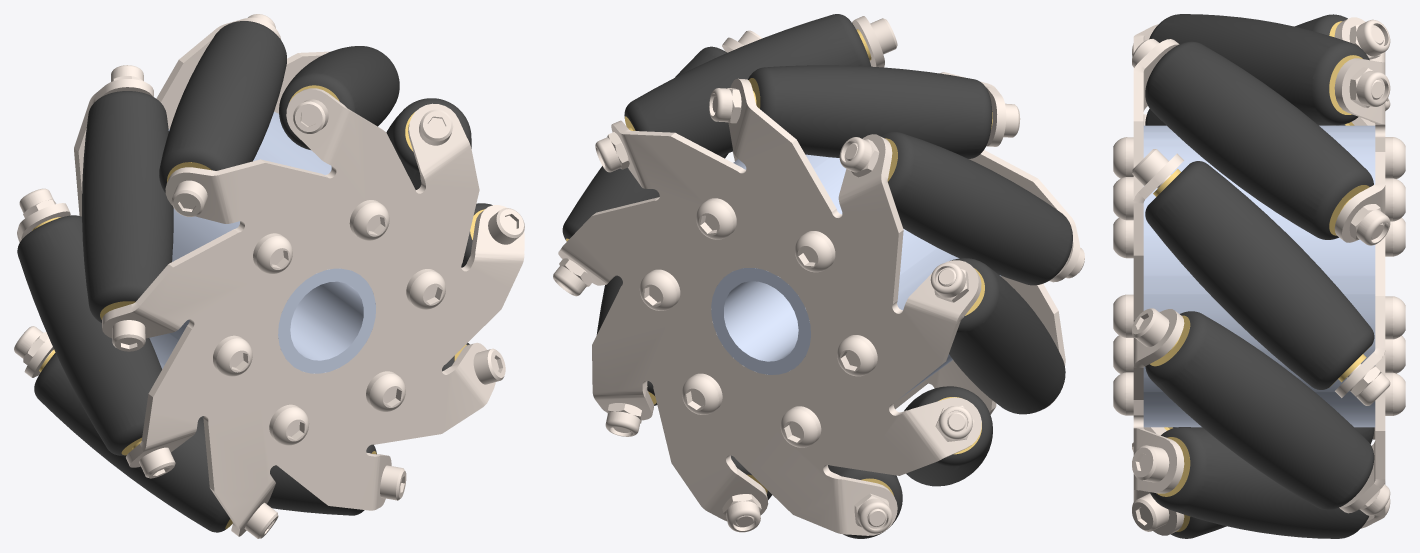
3 renders of one model, left to right at view 1: azimuth 30°, elevation 25°; view 2: azimuth 150°, elevation 25°; view 3: azimuth 270°, elevation 25°, orthographic. The views are drawn at different scales.
Parts seen in each view (by area): view 1: node3, node0, node1, node2; view 2: node3, node0, node1, node2; view 3: node0, node3, node1, node2.
Boxes of the visible parts, <box> form: node3: <box>14,14,524,538</box>; node0: <box>17,21,492,532</box>; node1: <box>149,112,375,373</box>; node2: <box>32,85,484,528</box>; node3: <box>553,16,1084,535</box>; node0: <box>562,14,1072,538</box>; node1: <box>711,154,1001,398</box>; node2: <box>566,29,992,495</box>; node0: <box>1145,14,1374,538</box>; node3: <box>1113,17,1405,535</box>; node1: <box>1143,125,1375,427</box>; node2: <box>1150,21,1371,531</box>.
Bounding box in the file's own units: 0.1042 × 0.1042 × 0.058.
